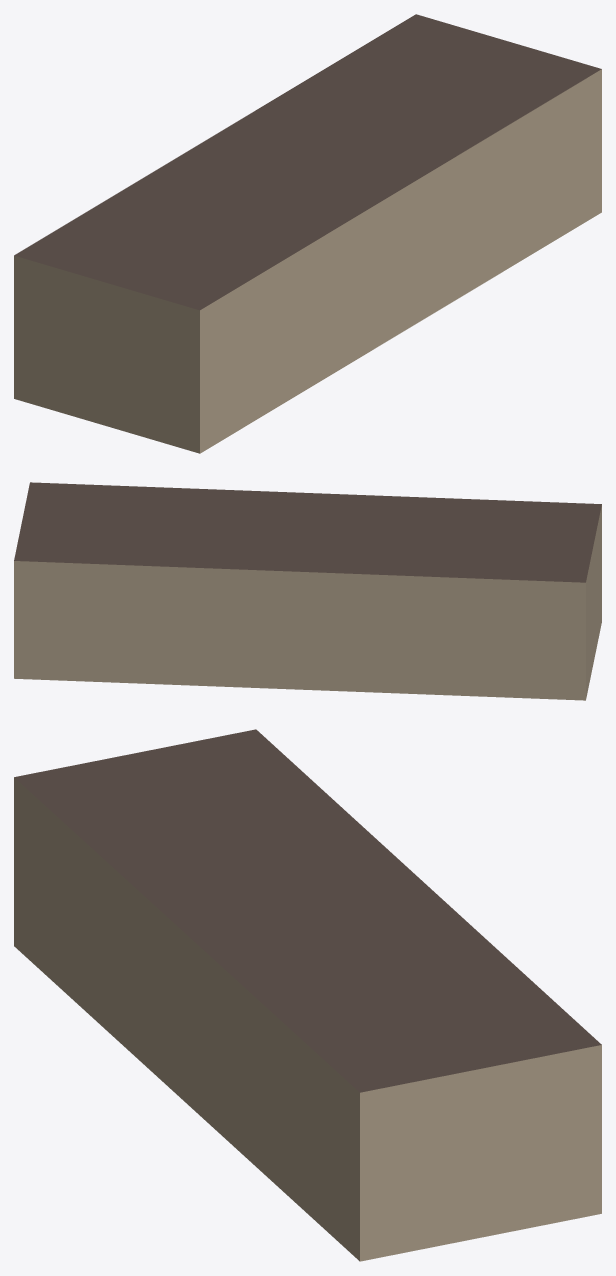
3 renders of one model, top to bottom at view 1: azimuth 30°, elevation 25°; view 2: azimuth 150°, elevation 25°; view 3: azimuth 270°, elevation 25°, orthographic. The views are drawn at different scales.
Visible parts, largest first — view 1: HP-w859488746; view 2: HP-w859488746; view 3: HP-w859488746.
Part boxes in pixels (box(x1,y1,x2,y2)): HP-w859488746: box(14, 14, 601, 453); HP-w859488746: box(14, 482, 601, 700); HP-w859488746: box(14, 729, 601, 1261).
Size of the model in its own units: 41.53 by 9 by 28.39.
